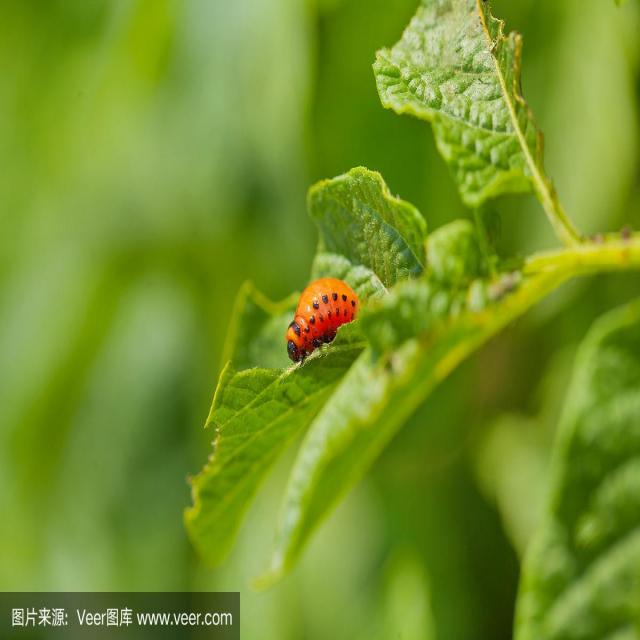ShuCaiHuaBanChong-Larva-: (278, 280, 359, 360)
